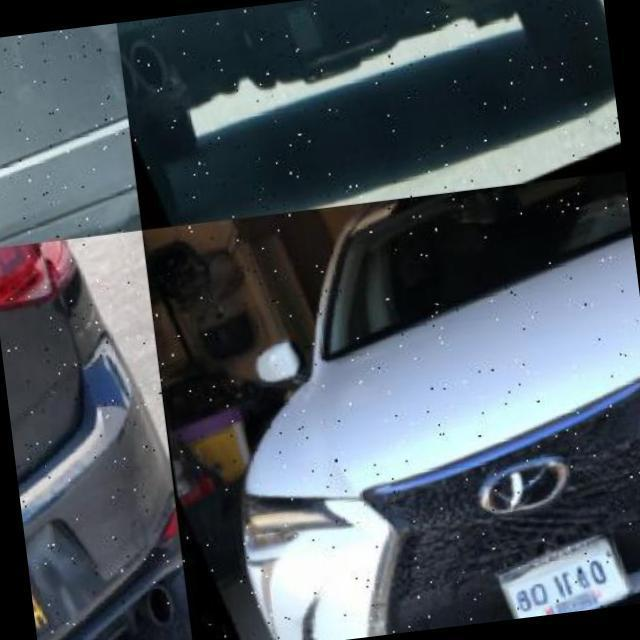License Plate: (494, 537, 630, 619), (24, 536, 96, 640), (206, 0, 330, 52)
